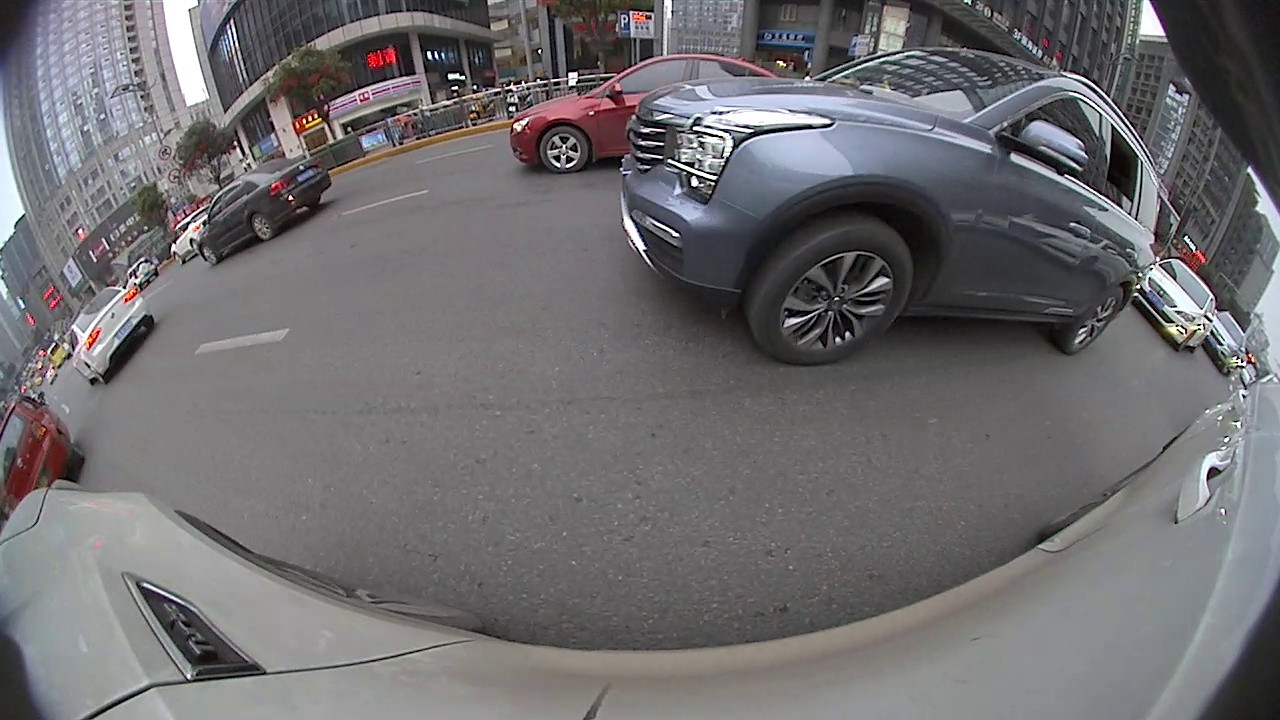car: (1017, 202, 1212, 439), (741, 63, 870, 150), (576, 44, 661, 112), (528, 58, 568, 86)
front: (789, 106, 816, 137), (591, 88, 602, 110)
person: (260, 59, 352, 233), (251, 98, 278, 152), (323, 71, 346, 128), (440, 62, 460, 117), (355, 83, 376, 129), (233, 120, 247, 153)
rear: (1065, 339, 1113, 388), (572, 83, 584, 102)
